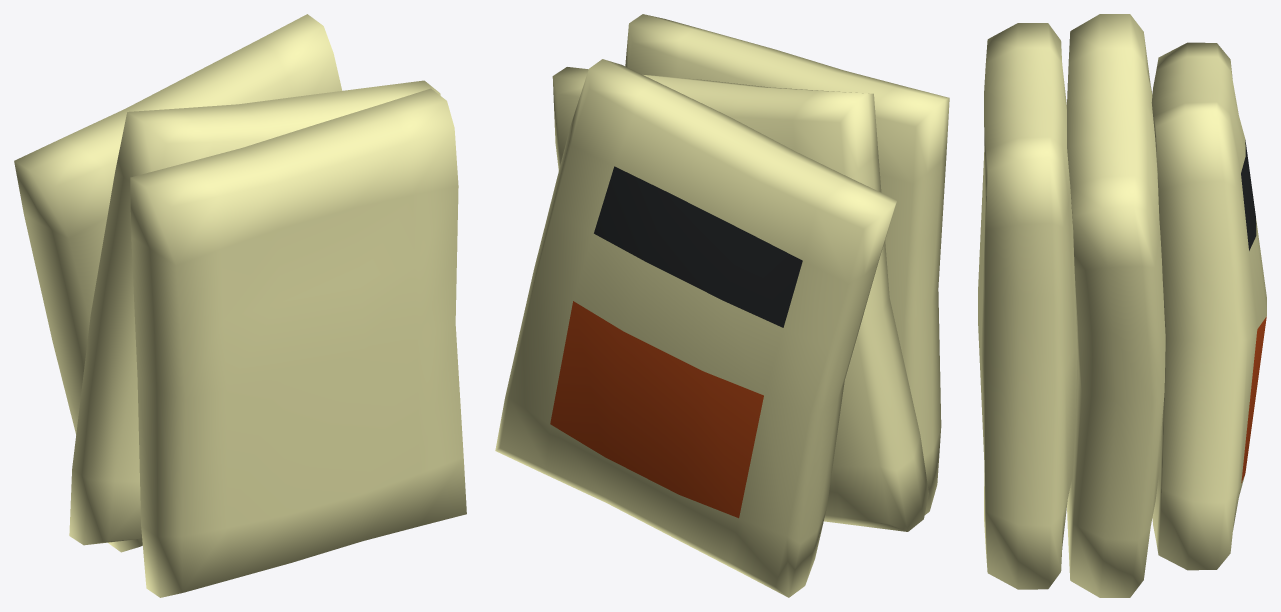
Rendered from cementStack.fbx.
3 renders of one model, left to right at view 1: azimuth 30°, elevation 25°; view 2: azimuth 150°, elevation 25°; view 3: azimuth 270°, elevation 25°, orthographic.
Visible parts, largest first — view 1: cementBagStack; view 2: cementBagStack; view 3: cementBagStack.
Part boxes in pixels (<box>): cementBagStack: <box>14,14,466,597</box>; cementBagStack: <box>495,14,949,597</box>; cementBagStack: <box>978,14,1266,597</box>.
Size of the model in its own units: 208 by 247 by 132.
Materials: 1 (1 with a texture image).
